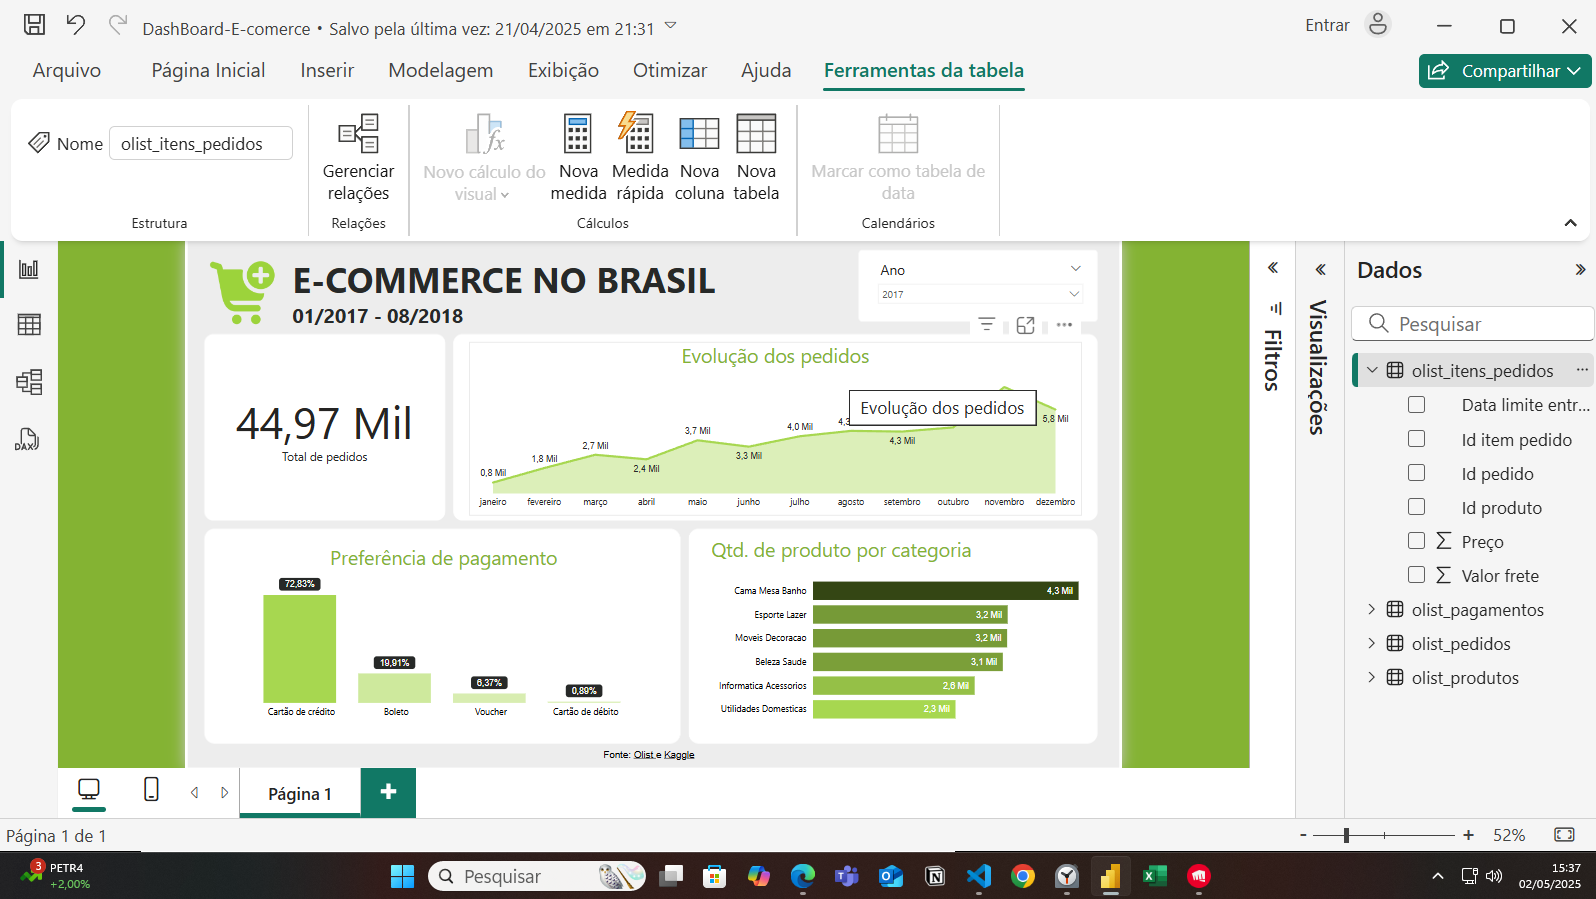

The dashboard page shown, as its layout file describes it:
{"tool":"powerbi","page":{"name":"Página 1","canvas":[1280,720],"ordinal":0},"visuals":[{"type":"image","box":[23.3,12.6,109.9,114.8],"z":0},{"type":"textbox","box":[142.5,12.7,658.5,115],"z":1000},{"type":"card","fields":{"Values":["CountNonNull(olist_pedidos.Id pedido)"]},"box":[50.6,151.7,281.1,208.1],"z":2000},{"type":"clusteredColumnChart","title":"Preferência de pagamento","fields":{"Category":["olist_pagamentos.Pagamento tratado"],"Y":["CountNonNull(olist_pagamentos.Pagamento tratado)"]},"box":[50.6,413.4,606,248],"z":3000},{"type":"areaChart","title":"Evolução dos pedidos","fields":{"Y":["CountNonNull(olist_pedidos.Id pedido)"],"Category":["olist_pedidos.Data aprovação.Variation.Hierarquia de datas.Mês"]},"box":[388.1,138.1,837.4,237.3],"z":4000},{"type":"clusteredBarChart","title":"Qtd. de produto por categoria","fields":{"Category":["olist_produtos.Nome categoria"],"Y":["CountNonNull(olist_itens_pedidos.Id pedido)"]},"box":[714.4,404.2,511.8,268],"z":5000},{"type":"slicer","fields":{"Values":["olist_pedidos.Data aprovação.Variation.Hierarquia de datas.Ano"]},"box":[936.4,21.1,300.2,80.6],"z":6000},{"type":"textbox","box":[566.1,687.7,146.9,32.1],"z":7000}]}

Visuals, with their boxes on the page's 1280x720 design canvas (x1, y1, x2, y2). These are canvas units, not pixel positions in the 1596x899 screenshot, which may show the page scaled, cropped or inside an application window:
image: (23, 13, 133, 127)
textbox: (142, 13, 801, 128)
card - CountNonNull(olist_pedidos.Id pedido): (51, 152, 332, 360)
"Preferência de pagamento" clusteredColumnChart: (51, 413, 657, 661)
"Evolução dos pedidos" areaChart: (388, 138, 1226, 375)
"Qtd. de produto por categoria" clusteredBarChart: (714, 404, 1226, 672)
slicer - olist_pedidos.Data aprovação.Variation.Hierarquia de datas.Ano: (936, 21, 1237, 102)
textbox: (566, 688, 713, 720)
